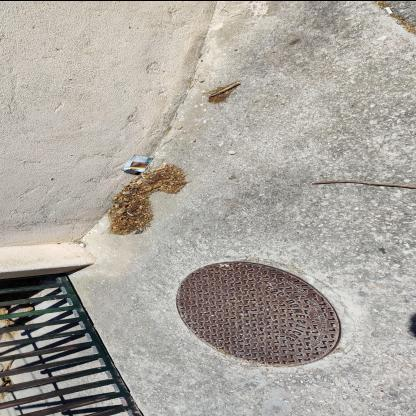karton: (122, 154, 154, 176)
